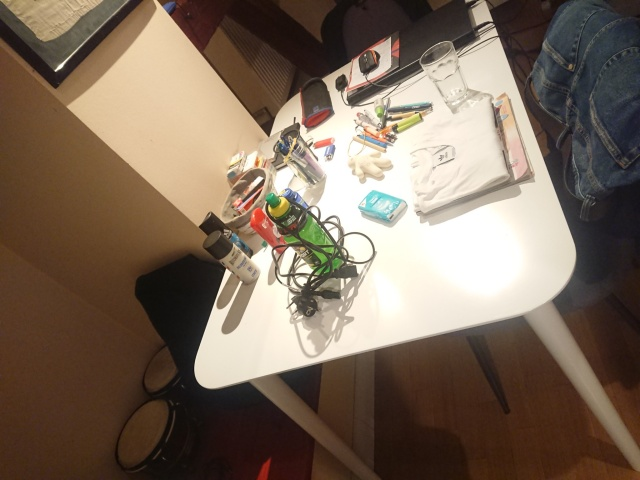Vindi Iso Sport Lemon-Grapefruit 500mL: (263, 191, 344, 276)
